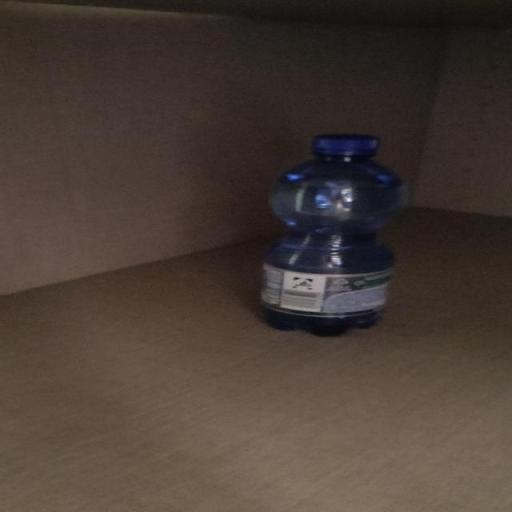plastic: (256, 130, 410, 336)
